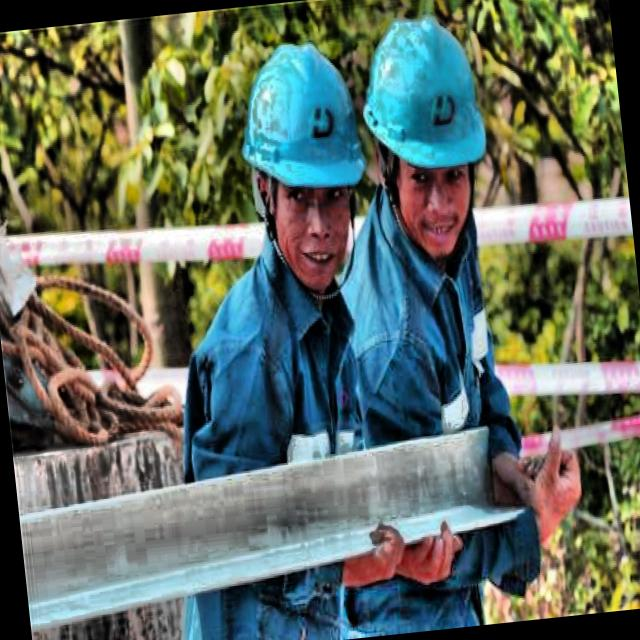helmet: (341, 0, 512, 267), (215, 22, 372, 294)
